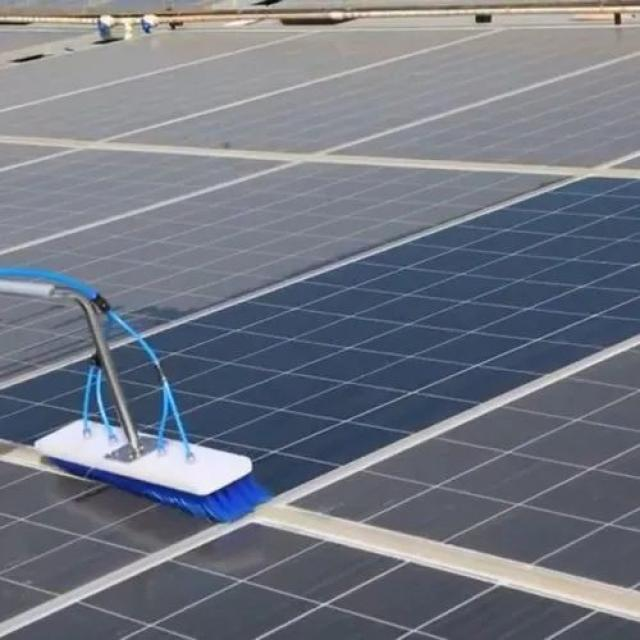clean-solar-panel: (0, 179, 640, 516)
dust-solar-panel: (0, 18, 640, 494), (0, 464, 640, 640), (297, 348, 640, 590)
